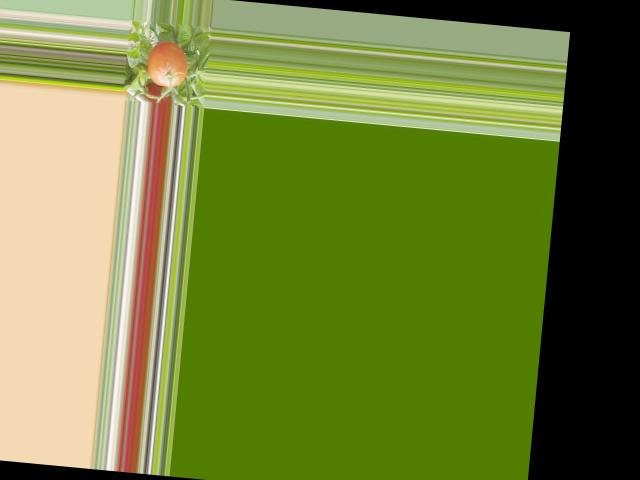tomato: (146, 41, 189, 88)
